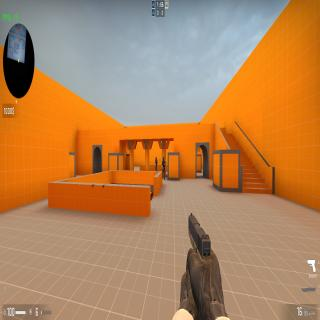CT-Body: (162, 156, 165, 180), (155, 156, 157, 172)
CT-Head: (162, 156, 165, 160), (155, 156, 157, 160)
